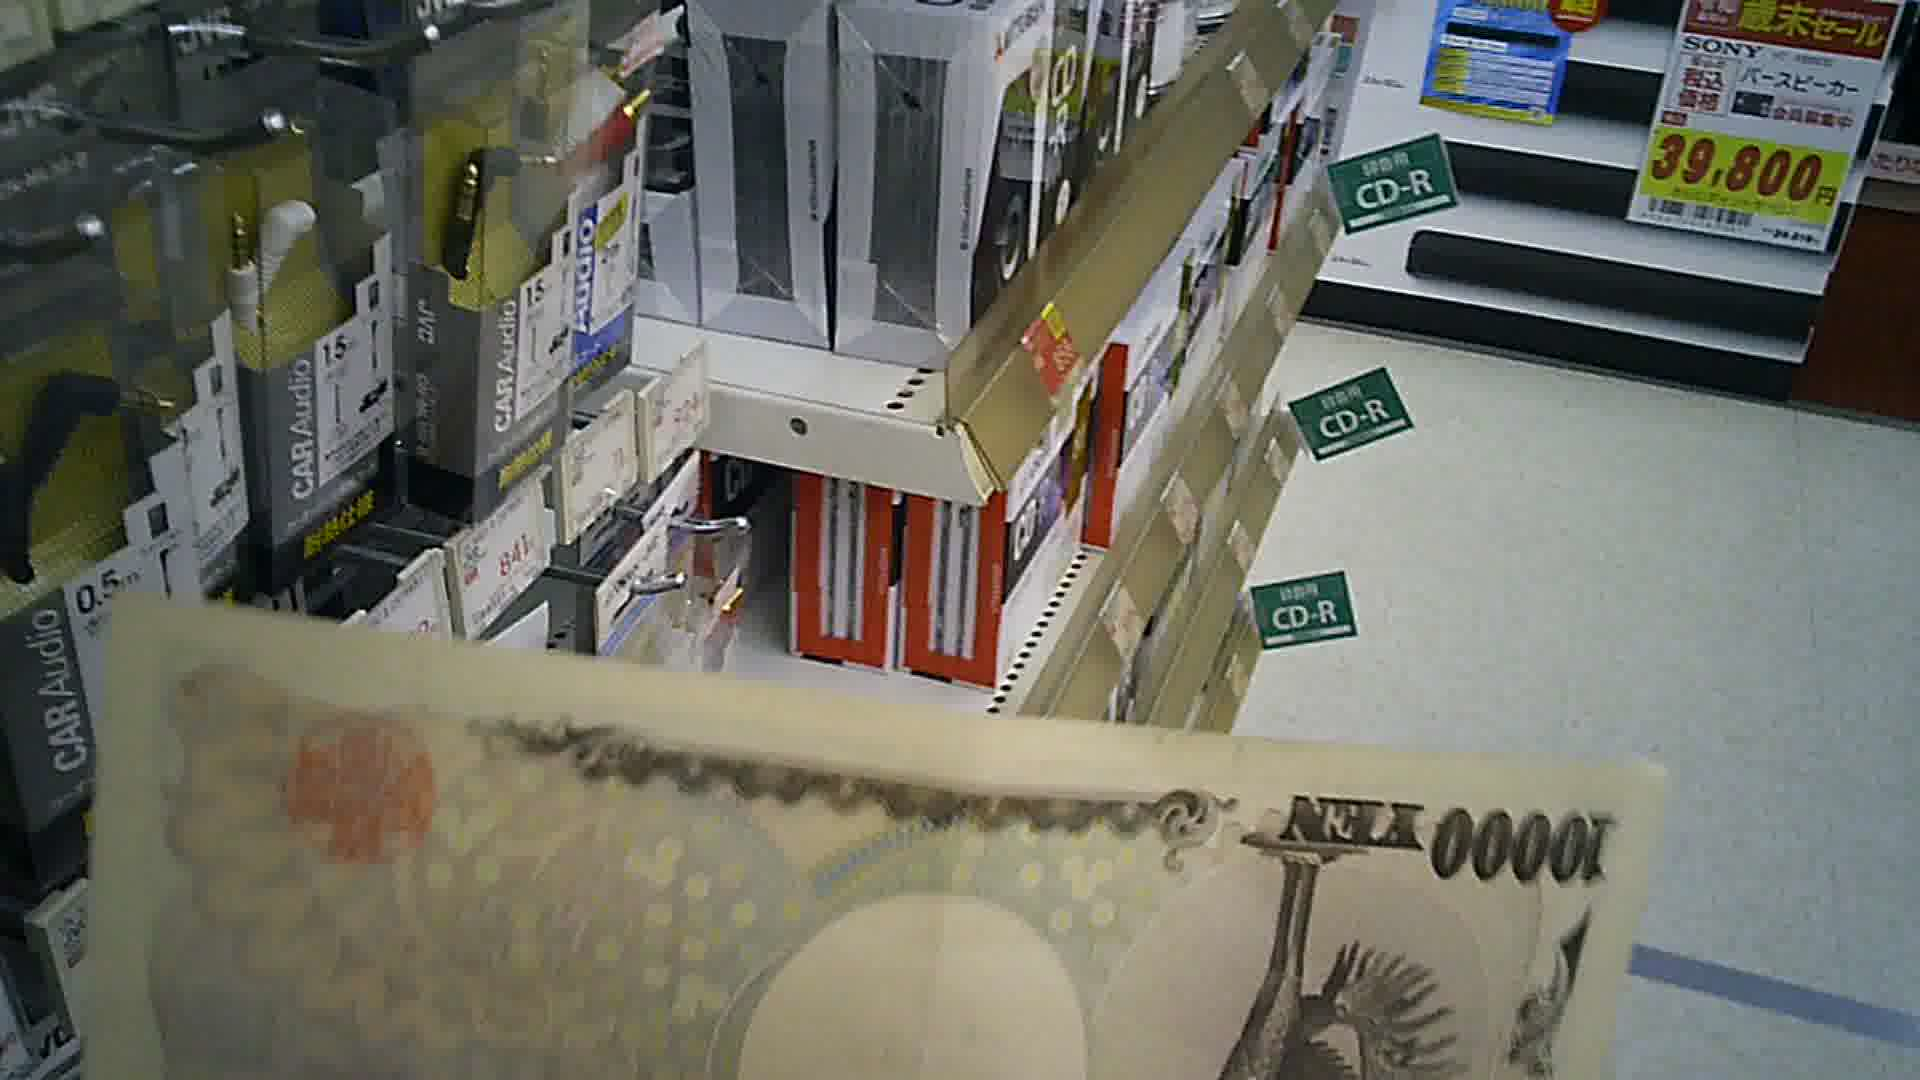10,000 Yen: (74, 580, 1639, 1079)
